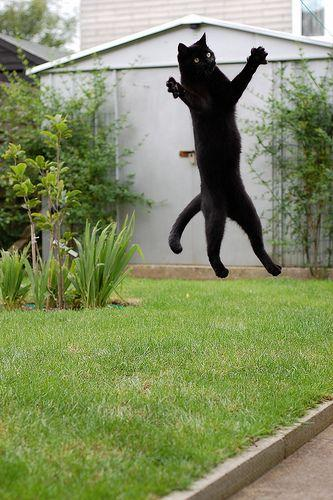kedo: (167, 33, 283, 276)
